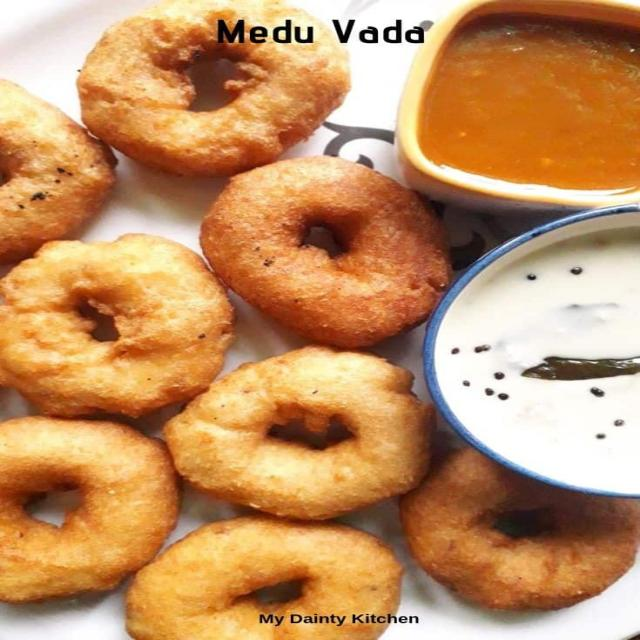MEDU VADA: (200, 156, 450, 348), (77, 0, 350, 175), (164, 347, 431, 520), (0, 234, 233, 418), (400, 446, 639, 610), (125, 516, 402, 639), (0, 416, 179, 603), (0, 78, 116, 264)
